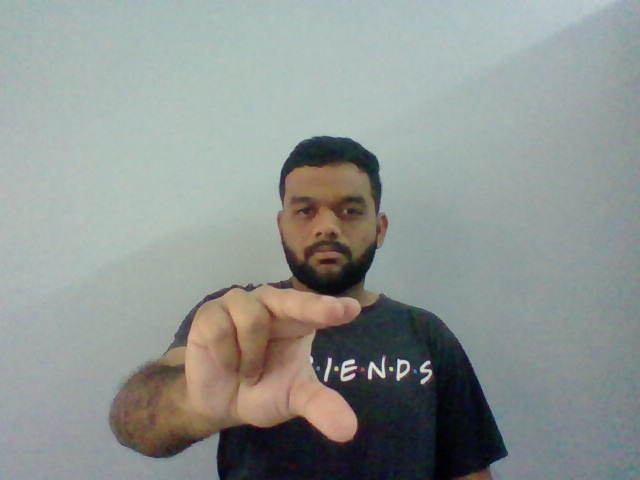No: (185, 284, 361, 444)
